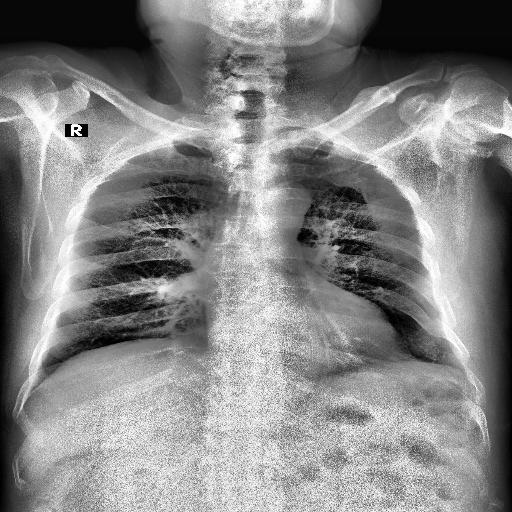0- Aortic enlargement: (254, 179, 310, 233), (264, 178, 311, 228), (259, 183, 311, 216)
3- Cardiomegaly: (204, 316, 416, 370)
